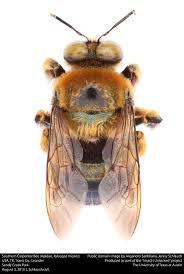Seladonia: (29, 9, 153, 244)
